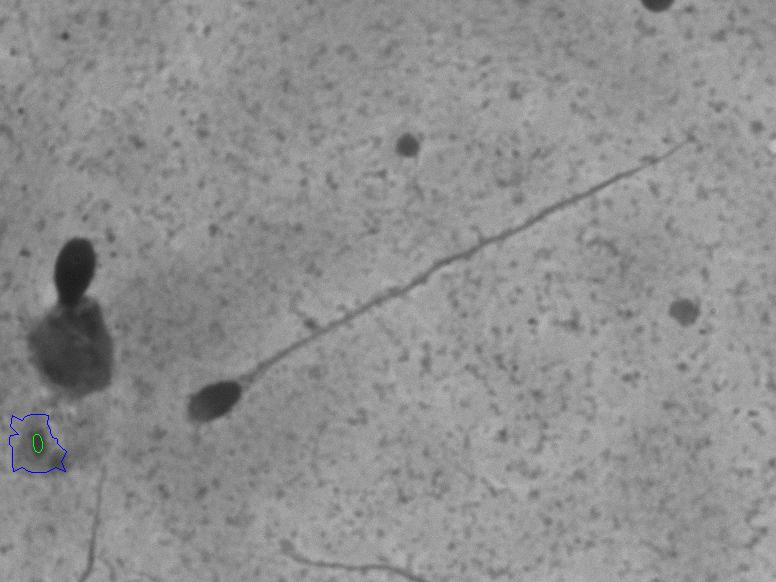Normal: (168, 116, 706, 441)
